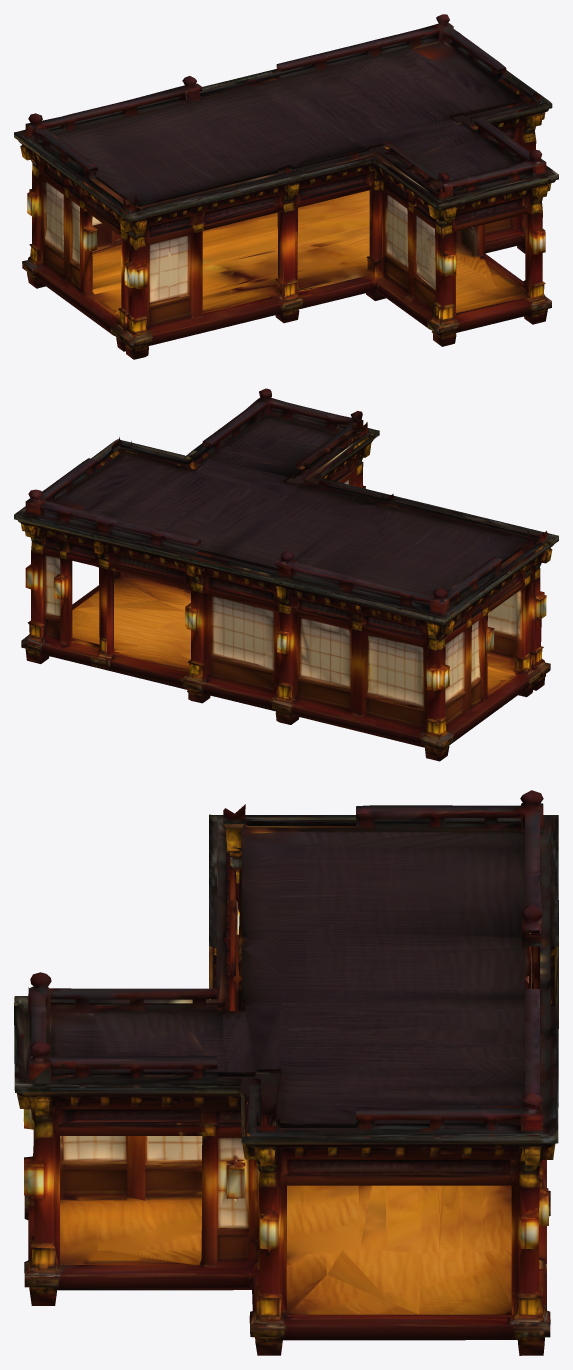
Rendered from HallWay3Way_LOD1.fbx.
3 renders of one model, top to bottom at view 1: azimuth 30°, elevation 25°; view 2: azimuth 150°, elevation 25°; view 3: azimuth 270°, elevation 25°, orthographic. The views are drawn at different scales.
Visible parts, largest first — view 1: HallWay3Way_LOD1; view 2: HallWay3Way_LOD1; view 3: HallWay3Way_LOD1.
Part boxes in pixels (x1,y1,x2,y2): HallWay3Way_LOD1: [14, 14, 558, 359]; HallWay3Way_LOD1: [14, 388, 558, 761]; HallWay3Way_LOD1: [14, 790, 558, 1355].
Bounding box in the file's own units: 12.09 × 4.59 × 8.66.
Materials: 1 (1 with a texture image).
